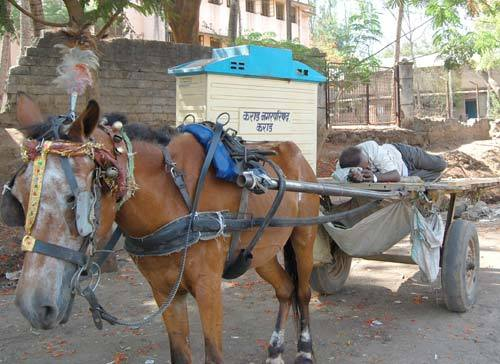horse: (9, 112, 322, 359)
